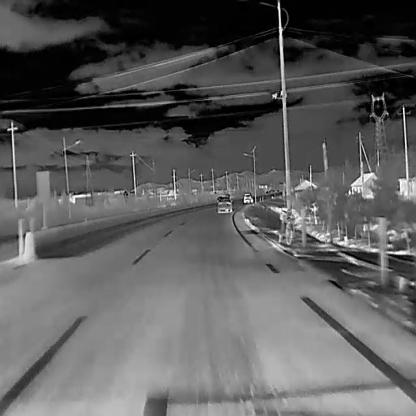car: (216, 196, 232, 213), (242, 192, 253, 203), (216, 195, 222, 202)
